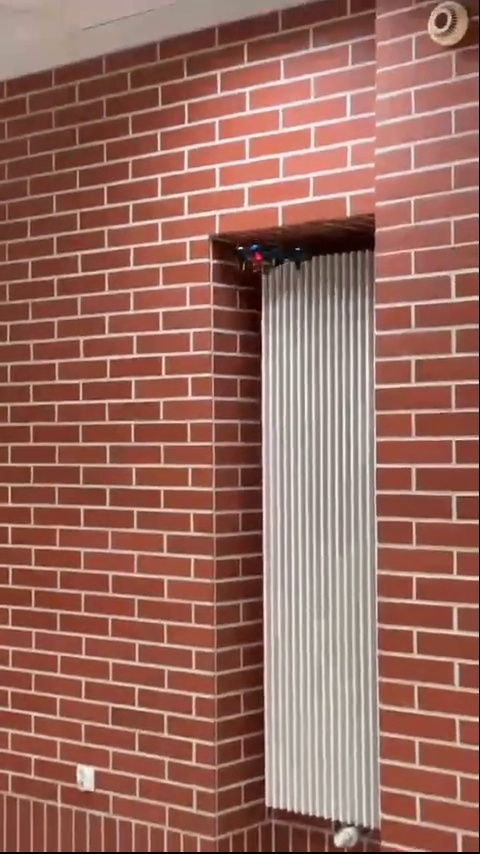drone: (228, 237, 312, 275)
